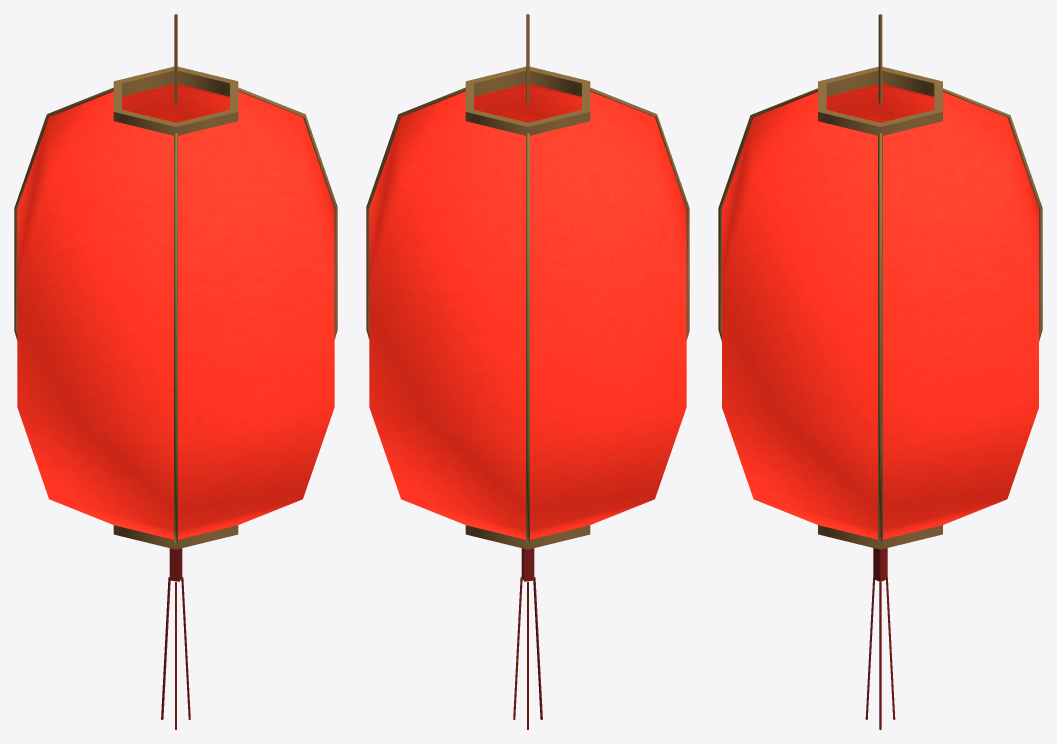
Rendered from den_long_01_lod1.glb.
3 renders of one model, left to right at view 1: azimuth 30°, elevation 25°; view 2: azimuth 150°, elevation 25°; view 3: azimuth 270°, elevation 25°, orthographic.
Visible parts, largest first — view 1: bamboo_rib_0; view 2: bamboo_rib_0; view 3: bamboo_rib_0.
Boxes of the visible parts, x1,y1,x2,y2 form: bamboo_rib_0: (14,14,337,729); bamboo_rib_0: (366,14,689,729); bamboo_rib_0: (718,14,1042,729).
Size of the model in its own units: 0.303 by 0.6401 by 0.2655.
2 materials, 1 textured.
